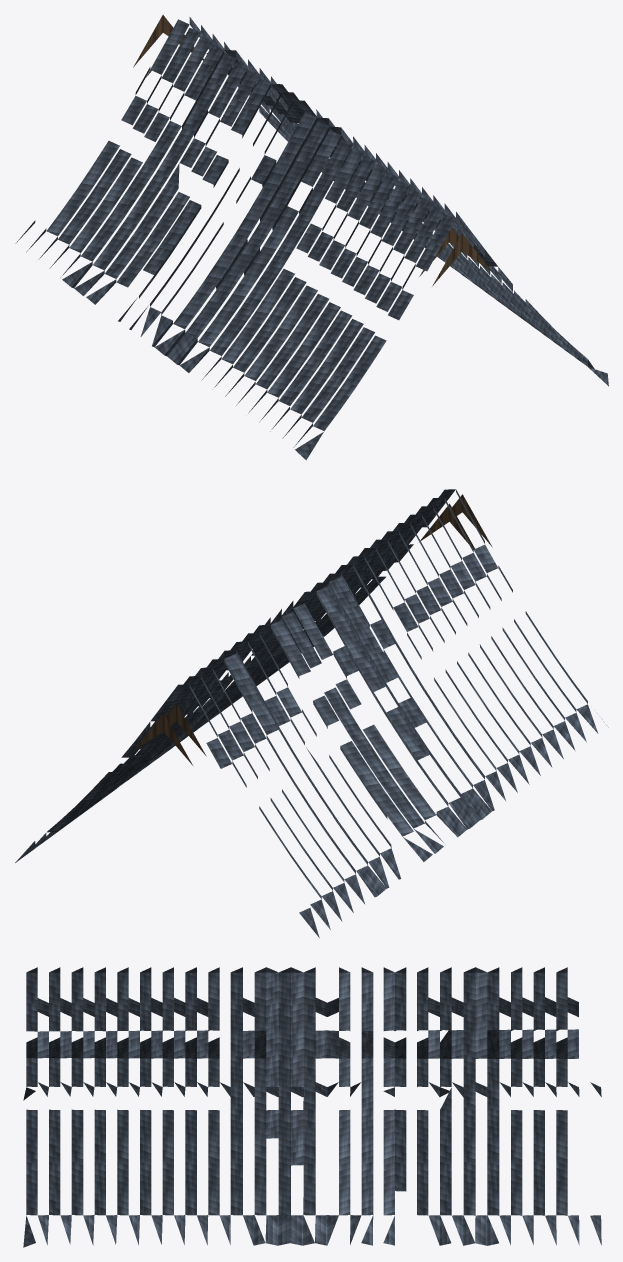
The model's file is Roof_Slate_6x12_LOD1.gltf.
3 views of the same model, one above another, from view 1: azimuth 30°, elevation 25°; view 2: azimuth 150°, elevation 25°; view 3: azimuth 270°, elevation 25° (orthographic).
Visible parts, largest first — view 1: Roof_Slate_6x12_LOD1; view 2: Roof_Slate_6x12_LOD1; view 3: Roof_Slate_6x12_LOD1.
Part boxes in pixels (x1,y1,x2,y2): Roof_Slate_6x12_LOD1: [15, 15, 608, 460]; Roof_Slate_6x12_LOD1: [15, 489, 608, 937]; Roof_Slate_6x12_LOD1: [23, 967, 601, 1247].
Size of the model in its own units: 8.25 by 5.17 by 13.66.
2 materials, 2 textured.
